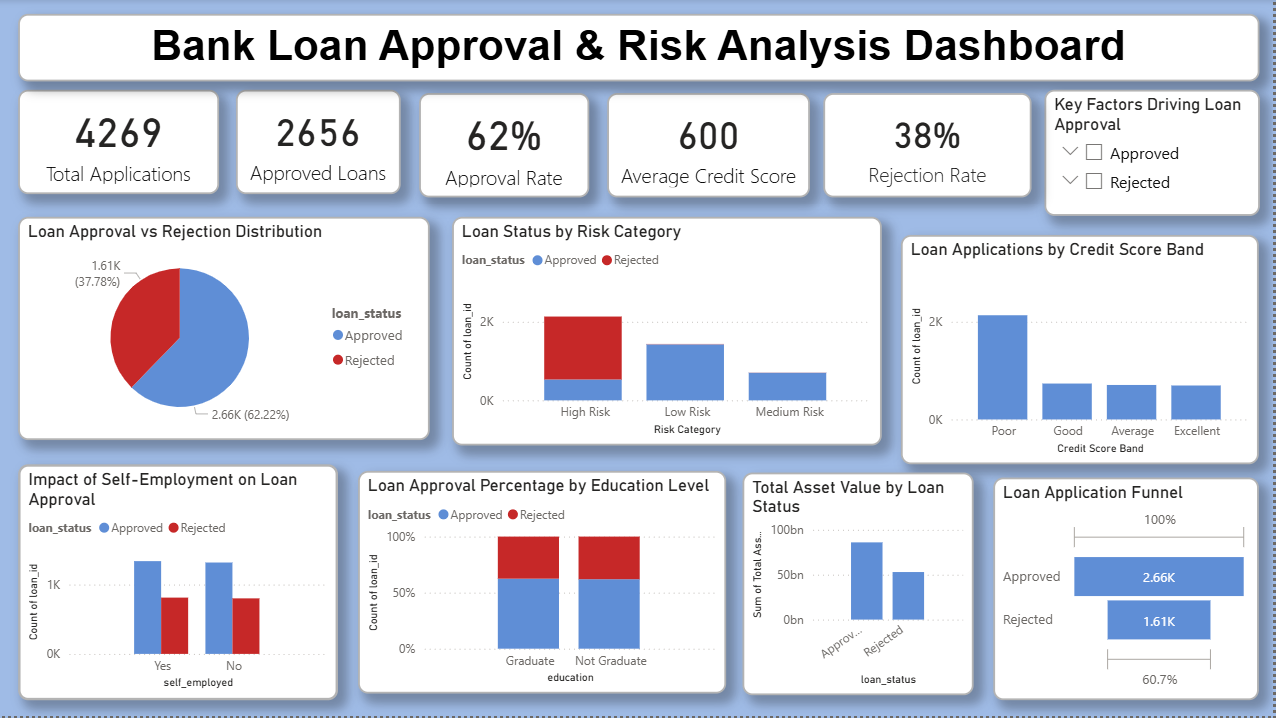

Layout of this report page (visuals, bound fields, positions):
{"tool":"powerbi","page":{"name":"Page 1","canvas":[1280,720],"ordinal":0},"visuals":[{"type":"card","fields":{"Values":["loan_approval_dataset.Approval Rate"]},"box":[420.4,93.6,170.7,104.6],"z":0},{"type":"card","fields":{"Values":["loan_approval_dataset.Total Applications"]},"box":[18.4,91.8,201.9,104.6],"z":1000},{"type":"card","fields":{"Values":["Avg(loan_approval_dataset.Avg Credit Score)"]},"box":[609.5,93.6,203.8,104.6],"z":2000},{"type":"card","fields":{"Values":["loan_approval_dataset.Approved Loans"]},"box":[236.8,91.8,165.2,104.6],"z":3000},{"type":"pieChart","title":"Loan Approval vs Rejection Distribution","fields":{"Category":["loan_approval_dataset.loan_status"],"Y":["CountNonNull(loan_approval_dataset.loan_id)"]},"box":[18.4,218.5,413.1,224],"z":4000},{"type":"columnChart","title":"Loan Applications by Credit Score Band","fields":{"Category":["loan_approval_dataset.Credit Score Band"],"Y":["CountNonNull(loan_approval_dataset.loan_id)"]},"box":[904.8,237,359.6,230.3],"z":6000},{"type":"hundredPercentStackedColumnChart","title":"Loan Approval Percentage by Education Level","fields":{"Category":["loan_approval_dataset.education"],"Series":["loan_approval_dataset.loan_status"],"Y":["CountNonNull(loan_approval_dataset.loan_id)"]},"box":[359.6,473.9,369.5,223.7],"z":7000},{"type":"clusteredColumnChart","title":"Impact of Self-Employment on Loan Approval","fields":{"Category":["loan_approval_dataset.self_employed"],"Series":["loan_approval_dataset.loan_status"],"Y":["CountNonNull(loan_approval_dataset.loan_id)"]},"box":[18.2,467.3,321.5,237],"z":8000},{"type":"textbox","box":[18.4,14.7,1246.6,67.9],"z":10000},{"type":"columnChart","title":"Loan Status by Risk Category","fields":{"Category":["loan_approval_dataset.Risk Category"],"Series":["loan_approval_dataset.loan_status"],"Y":["CountNonNull(loan_approval_dataset.loan_id)"]},"box":[453.5,218.5,431.4,229.5],"z":11000},{"type":"slicer","title":"Key Factors Driving Loan Approval","fields":{"Values":["loan_approval_dataset.loan_status","loan_approval_dataset.self_employed","loan_approval_dataset.education","loan_approval_dataset.cibil_score","loan_approval_dataset.income_annum"]},"box":[1048.3,91.8,216.6,126.7],"z":12000},{"type":"columnChart","title":"Total Asset Value by Loan Status","fields":{"Category":["loan_approval_dataset.loan_status"],"Y":["Sum(loan_approval_dataset.Total Assets)"]},"box":[745.7,475.6,232,223.7],"z":12001},{"type":"card","fields":{"Values":["loan_approval_dataset.Rejection Rate"]},"box":[826.2,93.6,209.3,104.6],"z":12002},{"type":"funnel","title":"Loan Application Funnel","fields":{"Category":["loan_approval_dataset.loan_status"],"Y":["CountNonNull(loan_approval_dataset.loan_id)"]},"box":[997.6,480.6,266.8,223.7],"z":12003}]}

Visuals, with their boxes in screenshot pixels (x1, y1, x2, y2), scaled from the page's 1280x720 canvas onto the 1276x718 screenshot:
card - loan_approval_dataset.Approval Rate: 419, 93, 589, 198
card - loan_approval_dataset.Total Applications: 18, 92, 220, 196
card - Avg(loan_approval_dataset.Avg Credit Score): 608, 93, 811, 198
card - loan_approval_dataset.Approved Loans: 236, 92, 401, 196
"Loan Approval vs Rejection Distribution" pieChart: 18, 218, 430, 441
"Loan Applications by Credit Score Band" columnChart: 902, 236, 1260, 466
"Loan Approval Percentage by Education Level" hundredPercentStackedColumnChart: 358, 473, 727, 696
"Impact of Self-Employment on Loan Approval" clusteredColumnChart: 18, 466, 339, 702
textbox: 18, 15, 1261, 82
"Loan Status by Risk Category" columnChart: 452, 218, 882, 447
"Key Factors Driving Loan Approval" slicer: 1045, 92, 1261, 218
"Total Asset Value by Loan Status" columnChart: 743, 474, 975, 697
card - loan_approval_dataset.Rejection Rate: 824, 93, 1032, 198
"Loan Application Funnel" funnel: 994, 479, 1260, 702
